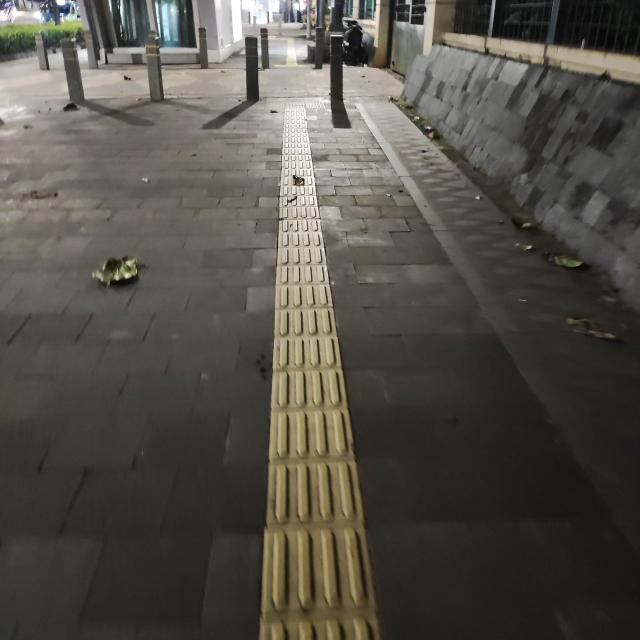lurus: (252, 124, 375, 640)
